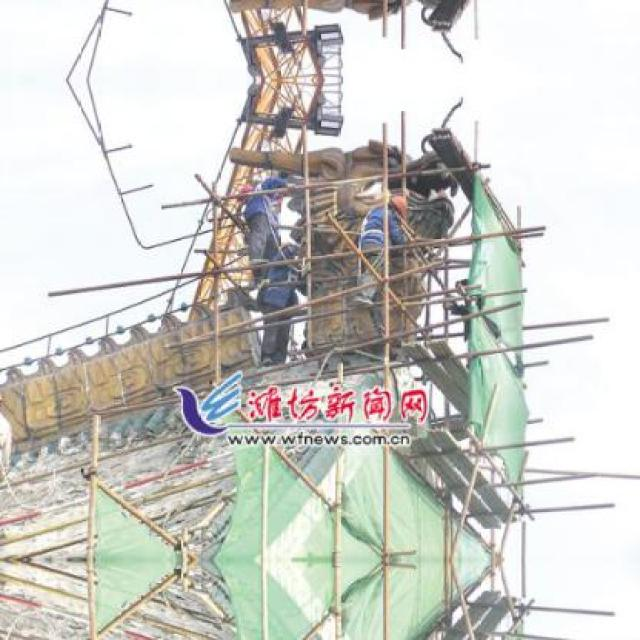helmet: (230, 180, 259, 207), (382, 193, 408, 219)
